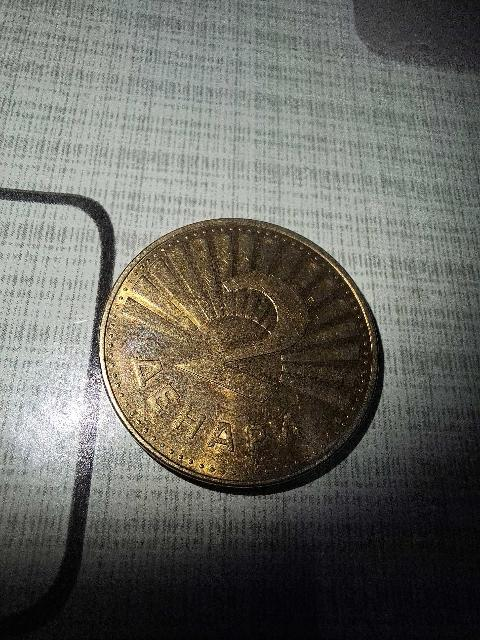2_coin: (100, 219, 378, 487)
